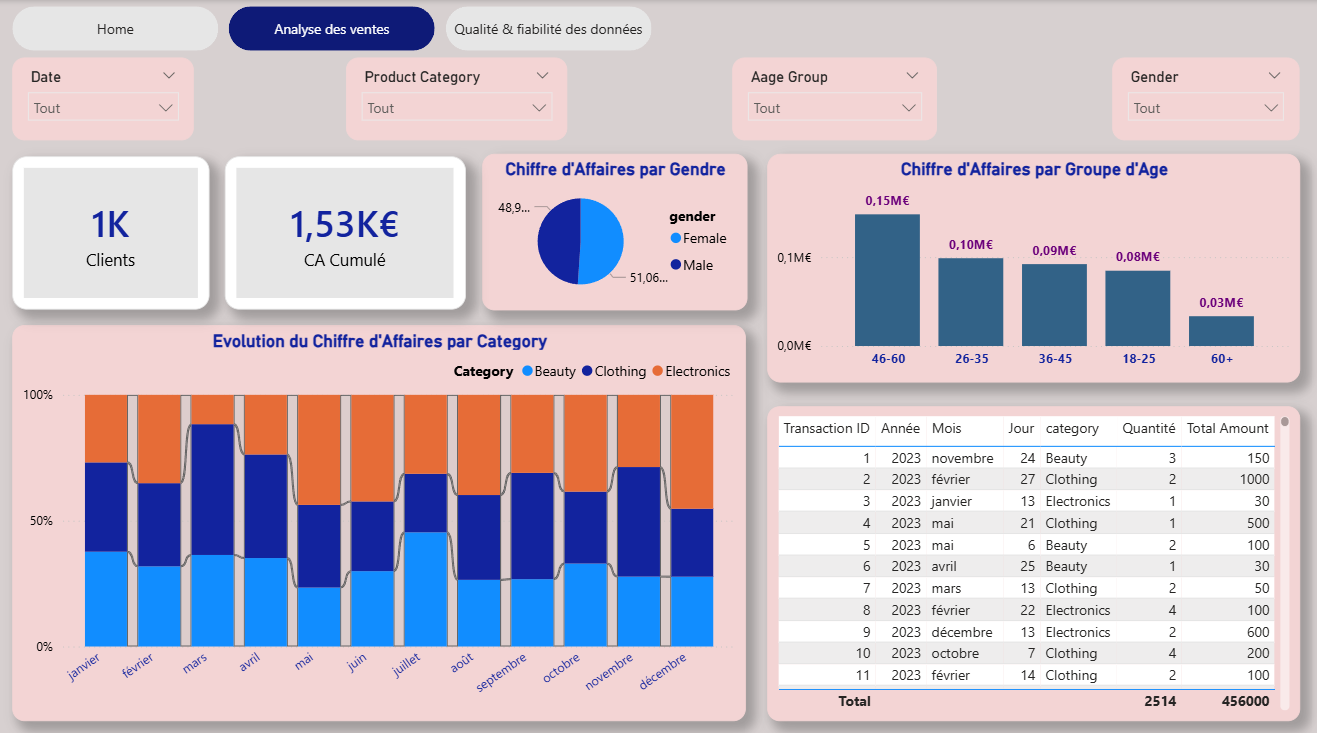

This screenshot's page, from the dashboard's own definition file:
{"tool":"powerbi","page":{"name":"Analyse des ventes","canvas":[1280,720],"ordinal":1},"visuals":[{"type":"hundredPercentStackedColumnChart","title":"Evolution du Chiffre d''Affaires par Category","fields":{"Y":["_Measures.CA"],"Category":["dim_date.date.Variation.Hiérarchie de dates.Mois"],"Series":["dim_product.product_category"]},"box":[15.7,313.7,708.2,382.4],"z":0},{"type":"tableEx","fields":{"Values":["fact_sales.transaction_id","dim_date.date.Variation.Hiérarchie de dates.Année","dim_date.date.Variation.Hiérarchie de dates.Mois","dim_date.date.Variation.Hiérarchie de dates.Jour","fact_sales.product_category","Sum(fact_sales.quantity)","Sum(fact_sales.total_amount)"]},"box":[744.2,391.8,514.3,304.1],"z":1000},{"type":"slicer","fields":{"Values":["dim_date.date.Variation.Hiérarchie de dates.Année","dim_date.date.Variation.Hiérarchie de dates.Mois"]},"box":[16.1,55.5,175.3,79.6],"z":2000},{"type":"slicer","fields":{"Values":["dim_product.product_category"]},"box":[337.2,55.5,213.8,79.6],"z":3000},{"type":"slicer","fields":{"Values":["dim_customer.age_group"]},"box":[711.1,55.5,197.7,79.6],"z":4000},{"type":"slicer","fields":{"Values":["dim_customer.gender"]},"box":[1077.8,55.5,180.7,79.6],"z":5000},{"type":"cardVisual","fields":{"Data":["_Measures.Clients"]},"box":[15.7,150.8,190.6,148.4],"z":6000},{"type":"pieChart","title":"Chiffre d''Affaires par Gendre","fields":{"Category":["dim_customer.gender"],"Y":["_Measures.CA"]},"box":[469.3,148.4,255.8,150.8],"z":7000},{"type":"clusteredColumnChart","title":"Chiffre d''Affaires par Groupe d''Age","fields":{"Category":["dim_customer.age_group"],"Y":["_Measures.CA"]},"box":[744.2,148.5,514.3,220.9],"z":8000},{"type":"cardVisual","fields":{"Data":["_Measures.Cumul annuel jusqu'à ce jour de CA"]},"box":[220.8,150.8,232.8,148.4],"z":9000},{"type":"pageNavigator","box":[16.1,6.3,617.2,43.8],"z":10000}]}

Visuals, with their boxes in screenshot pixels (x1, y1, x2, y2), scaled from the page's 1280x720 canvas onto the 1317x733 screenshot:
"Evolution du Chiffre d''Affaires par Category" hundredPercentStackedColumnChart: 16,319,745,709
tableEx - fact_sales.transaction_id x dim_date.date.Variation.Hiérarchie de dates.Année: 766,399,1295,708
slicer - dim_date.date.Variation.Hiérarchie de dates.Année x dim_date.date.Variation.Hiérarchie de dates.Mois: 17,57,197,138
slicer - dim_product.product_category: 347,57,567,138
slicer - dim_customer.age_group: 732,57,935,138
slicer - dim_customer.gender: 1109,57,1295,138
cardVisual - _Measures.Clients: 16,154,212,305
"Chiffre d''Affaires par Gendre" pieChart: 483,151,746,305
"Chiffre d''Affaires par Groupe d''Age" clusteredColumnChart: 766,151,1295,376
cardVisual - _Measures.Cumul annuel jusqu'à ce jour de CA: 227,154,467,305
pageNavigator: 17,6,652,51
